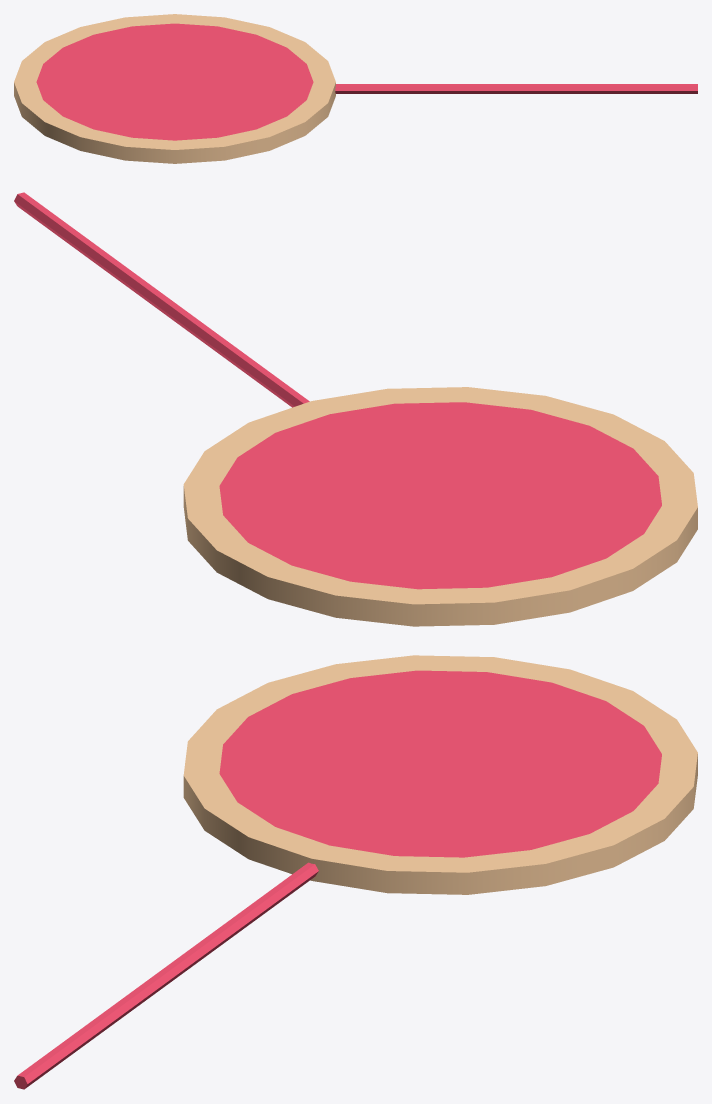
The model's file is Toy222.fbx.
3 views of the same model, one above another, from view 1: azimuth 30°, elevation 25°; view 2: azimuth 150°, elevation 25°; view 3: azimuth 270°, elevation 25° (orthographic). The views are drawn at different scales.
Parts seen in each view (by area): view 1: Toy222; view 2: Toy222; view 3: Toy222.
Part boxes in pixels (x1,y1,x2,y2): Toy222: [14, 14, 697, 163]; Toy222: [14, 192, 697, 626]; Toy222: [14, 655, 697, 1089].
Size of the model in its own units: 0.2502 by 0.0062 by 0.1731.
